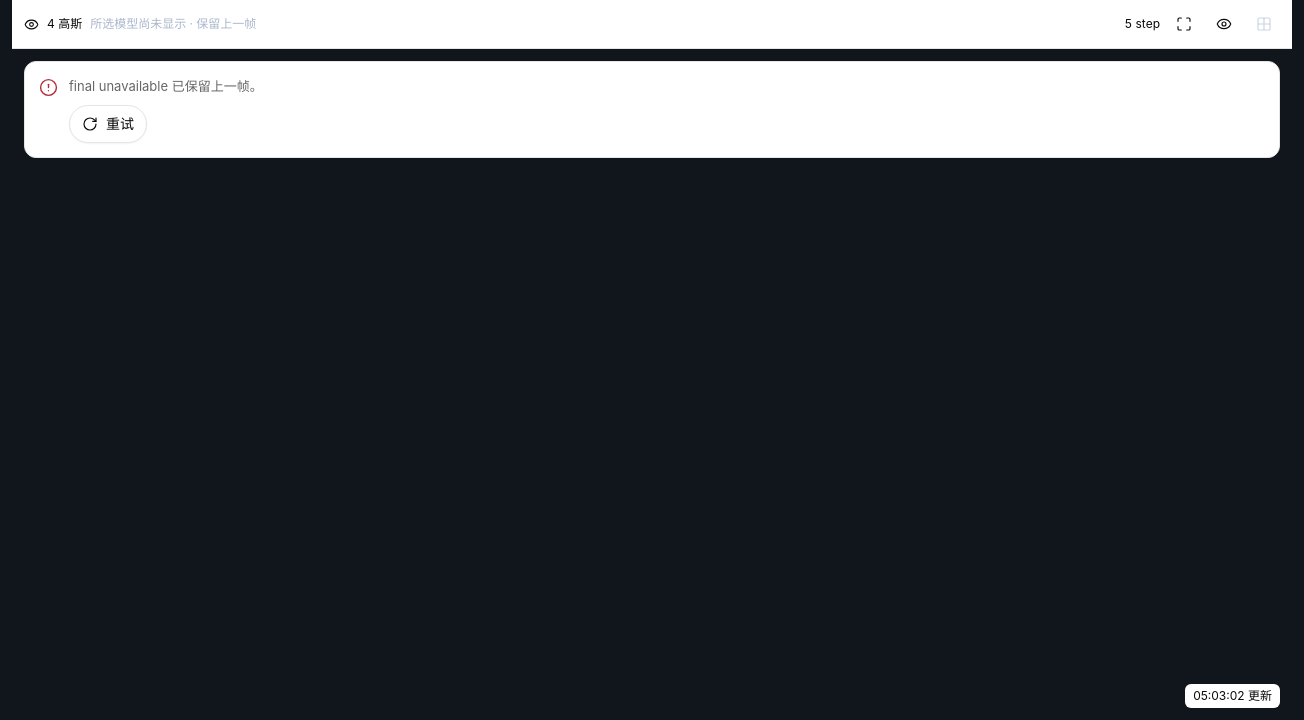
Test: Gaussian preview model lifecycle › does not label the retained live frame as the selected model after a failed final load
Expected: the text "final unavailable 已保留上一帧。" is shown, [69,78,263,94]
Expected: the text "所选模型尚未显示 · 保留上一帧" is shown, [90,16,256,32]
Click the button "重试" at (108, 124), box [69,105,147,143]
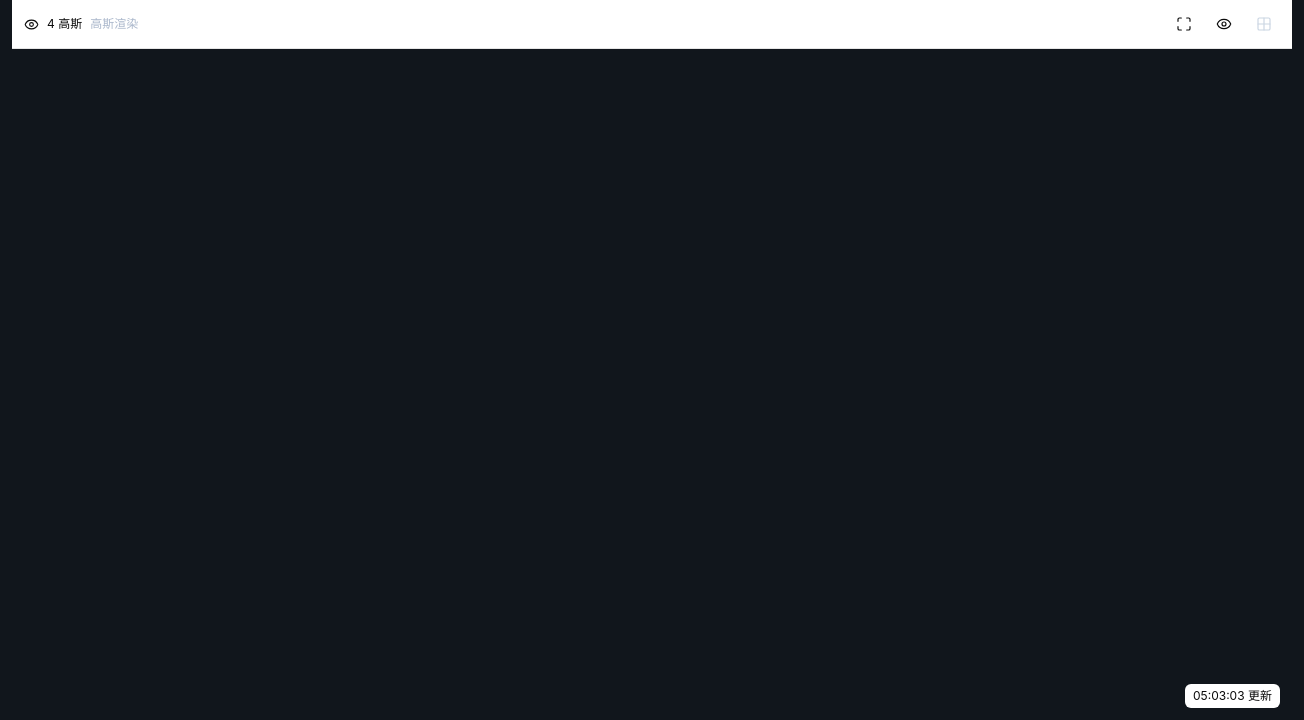
Now the text "高斯渲染" is shown, box [90,16,138,32]
Now the text "5 step" is gone
